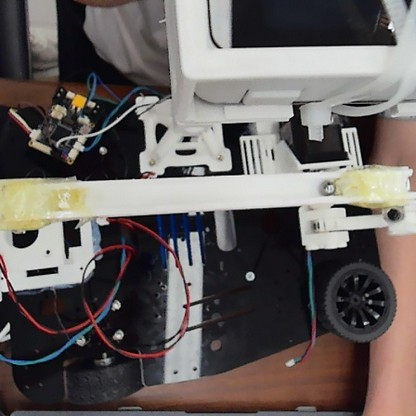ironball: (317, 178, 334, 196)
